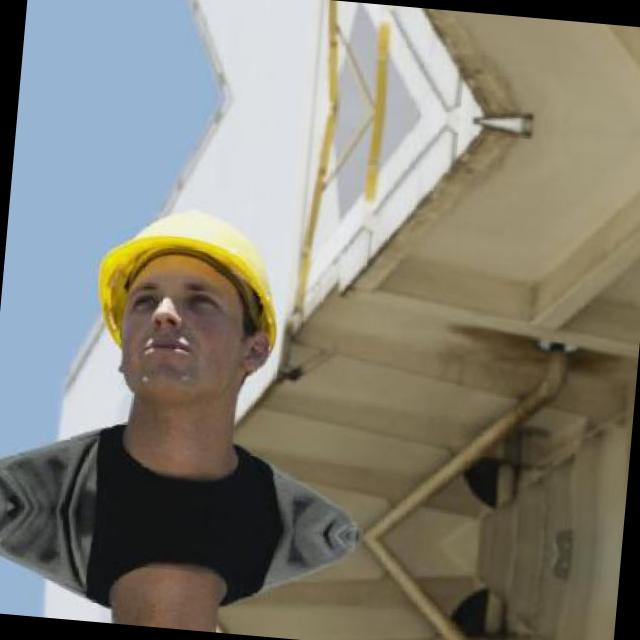helmet: (58, 153, 324, 464)
